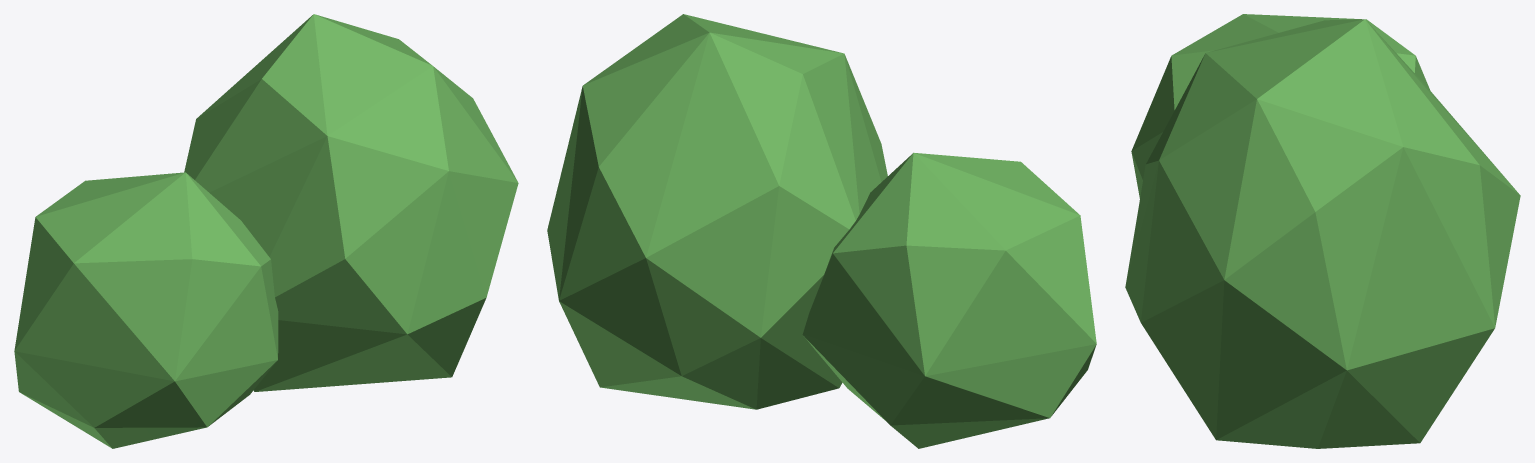
Rendered from Bush_A.fbx.
3 views of the same model, side by side, from view 1: azimuth 30°, elevation 25°; view 2: azimuth 150°, elevation 25°; view 3: azimuth 270°, elevation 25° (orthographic). The views are drawn at different scales.
Visible parts, largest first — view 1: Bush_A; view 2: Bush_A; view 3: Bush_A.
Boxes of the visible parts, x1,y1,x2,y2 form: Bush_A: (14,14,518,448); Bush_A: (547,14,1096,448); Bush_A: (1125,14,1520,448).
Size of the model in its own units: 87.02 by 56.51 by 53.23.
